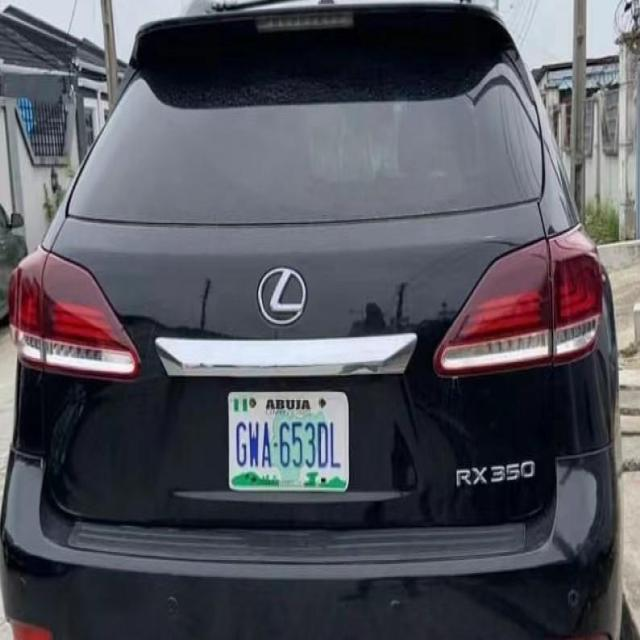Nigerian License Plate - vdataset benjamin-daria: (224, 383, 353, 502)
